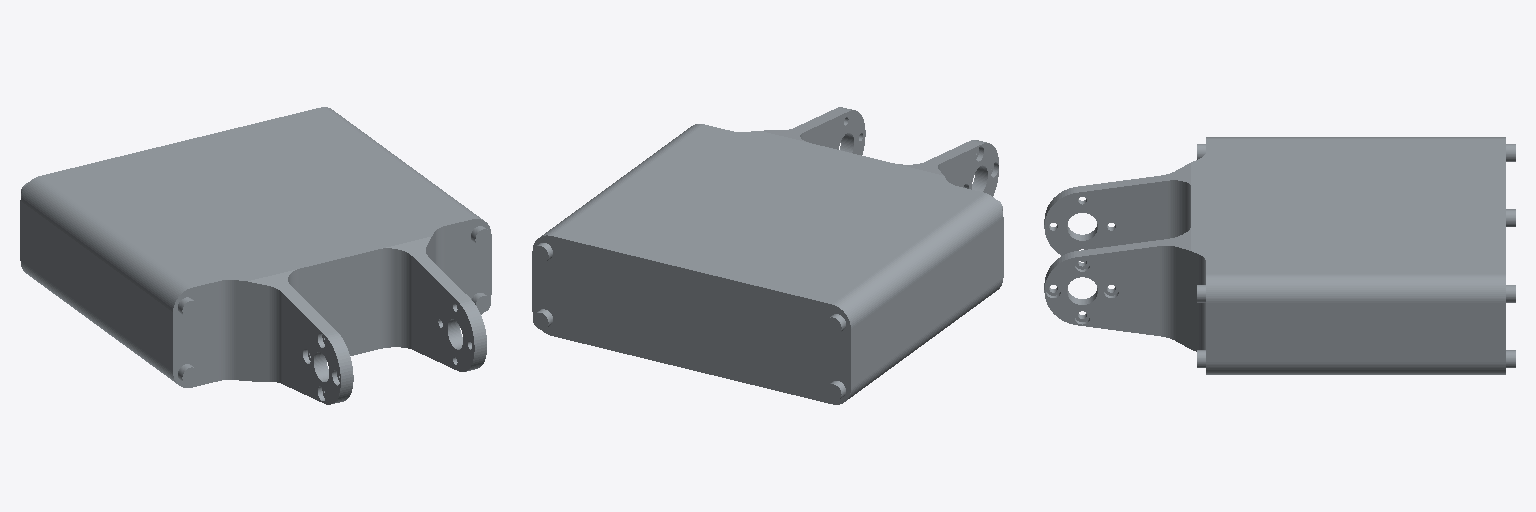
URDF robot description (sysID_XM430):
<robot name="sysID_XM430">
  <mujoco>
    <compiler strippath="false" balanceinertia="true" discardvisual="false" />
  </mujoco>
  <link name="xm430">
    <visual>
      <origin xyz="0 0 0" rpy="0 -0 0" />
      <geometry>
        <mesh filename="../assemblies/sysID_XM430/meshes/xm430_visual.stl" />
      </geometry>
      <material name="xm430_material">
        <color rgba="0.91426034379578879907 0.70000842084638215113 0.13024790887542941897 1.0" />
      </material>
    </visual>
    <inertial>
      <origin xyz="0.071958135955560109664 0.017445641259993493327 0.0055435138757473530202" rpy="0 0 0" />
      <mass value="0.10345000000444962152" />
      <inertia ixx="3.2324316568160280452e-05" ixy="-6.1940121394904638384e-06" ixz="-3.1148674256868357982e-08" iyy="3.2377737272393003519e-05" iyz="-4.6596185424280932665e-08" izz="4.8950379202494915772e-05" />
    </inertial>
  </link>

  <link name="arm_430">
    <visual>
      <origin xyz="0 0 0" rpy="0 -0 0" />
      <geometry>
        <mesh filename="../assemblies/sysID_XM430/meshes/arm_430_visual.stl" />
      </geometry>
      <material name="arm_430_material">
        <color rgba="0.62999456499017514322 0.65518625360592031015 0.6781537689702749061 1.0" />
      </material>
    </visual>
    <inertial>
      <origin xyz="-0.072230555077123254071 -2.7271210028869799149e-17 -0.019000000000000252798" rpy="0 0 0" />
      <mass value="0.23449999999999998623" />
      <inertia ixx="0.00023538980795506769654" ixy="-5.2643097671854766073e-19" ixz="-5.0334932890586797649e-19" iyy="0.00036901840263902870899" iyz="1.4664649652078179734e-16" izz="0.00018448272046932702017" />
    </inertial>
  </link>

  <joint name="joint_0" type="revolute">
    <origin xyz="0.093000000000000013212 0.032699857927858892725 0.0055693959459662215755" rpy="-1.570796326794896558 2.7547408798512016148e-15 -1.5707963267948912289" />
    <parent link="xm430" />
    <child link="arm_430" />
    <axis xyz="0 0 1" />
    <limit effort="1" velocity="20" lower="-1.570796326794896558" upper="1.570796326794896558" />
    <joint_properties friction="0.0" />
  </joint>


</robot>

--- Render facts (derived) ---
Views: 3 orthographic renders of the robot side by side, from view 1: azimuth 30°, elevation 25°; view 2: azimuth 150°, elevation 25°; view 3: azimuth 270°, elevation 25°.
Model sysID_XM430 with 2 links and 1 joints (1 revolute), rooted at xm430, posed all joints at 0.
Links seen in each view (by area): view 1: arm_430; view 2: arm_430; view 3: arm_430.
Link boxes in pixels (x1=…): arm_430: x1=20, y1=107, x2=491, y2=404; arm_430: x1=532, y1=107, x2=1003, y2=404; arm_430: x1=1044, y1=137, x2=1515, y2=374.
Bounding box of the posed robot: 0.1 × 0.13 × 0.03 m (x, y, z).
Meshes: 2 distinct files referenced, 1 mesh visuals loaded (1 binary STL); not drawn: 1 (reference not matched to a file when rendering).